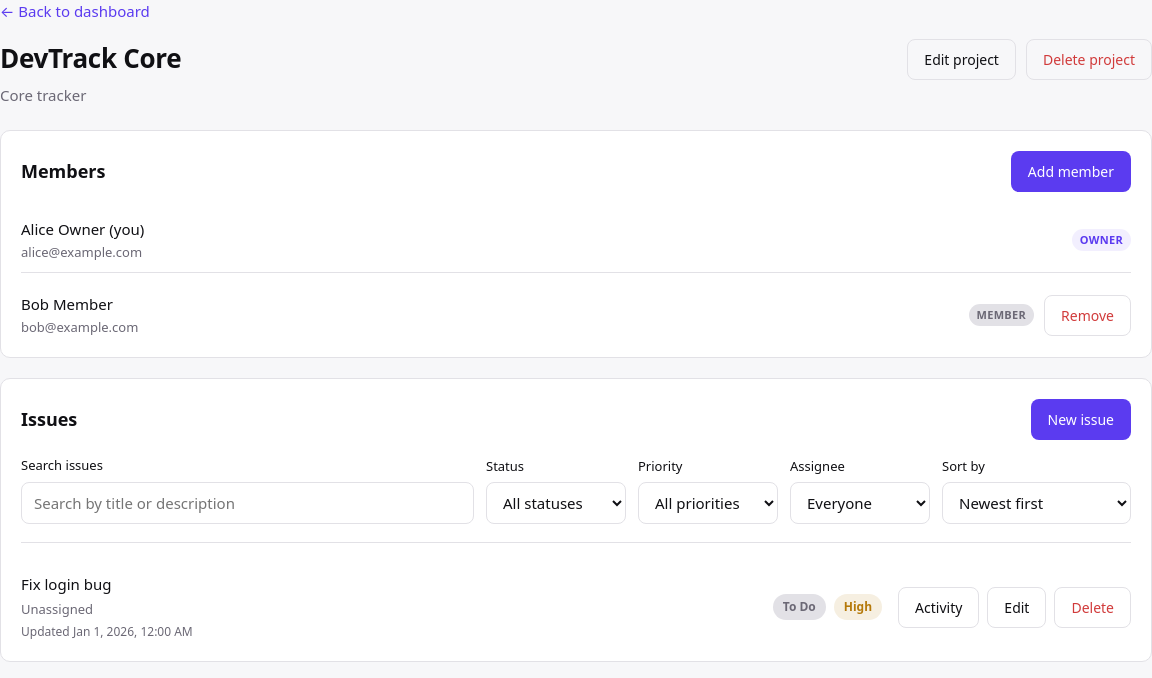
Scenario: ProjectDetailPage › creates an issue through the modal form
Expected: the heading "DevTrack Core" is shown, [0,38,181,78]
Click the button "New issue": (1081, 420) [1030,399,1131,440]
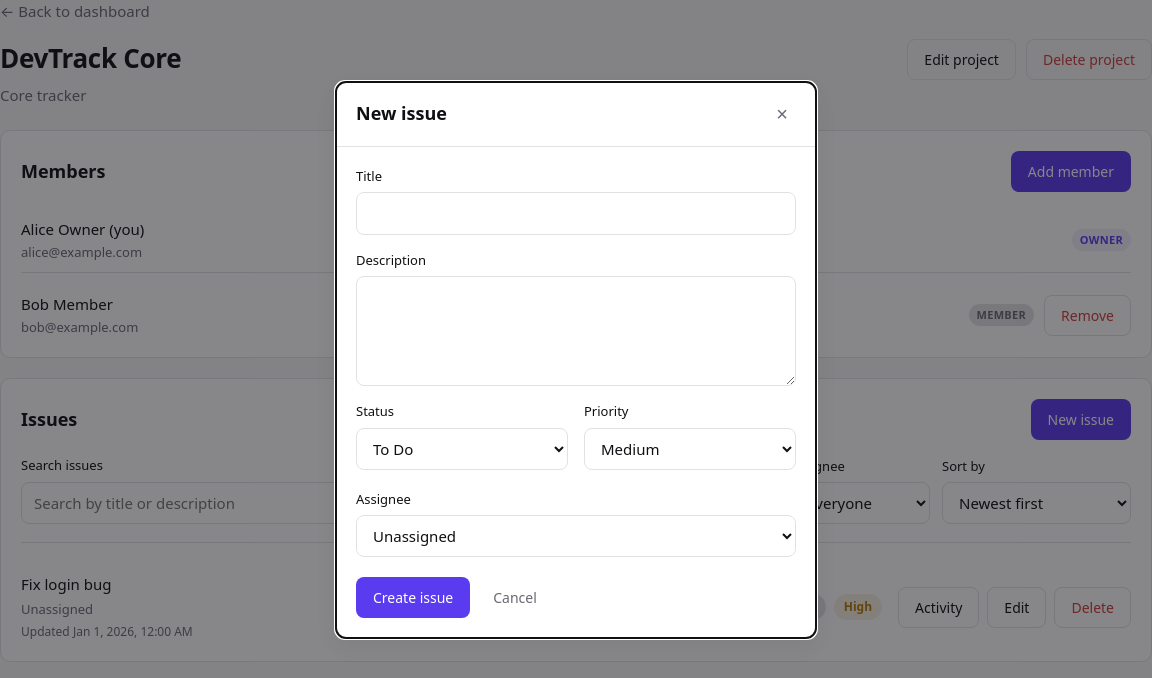
In the field labelled "Title": (576, 214) [356,192,796,235], type "Write docs"
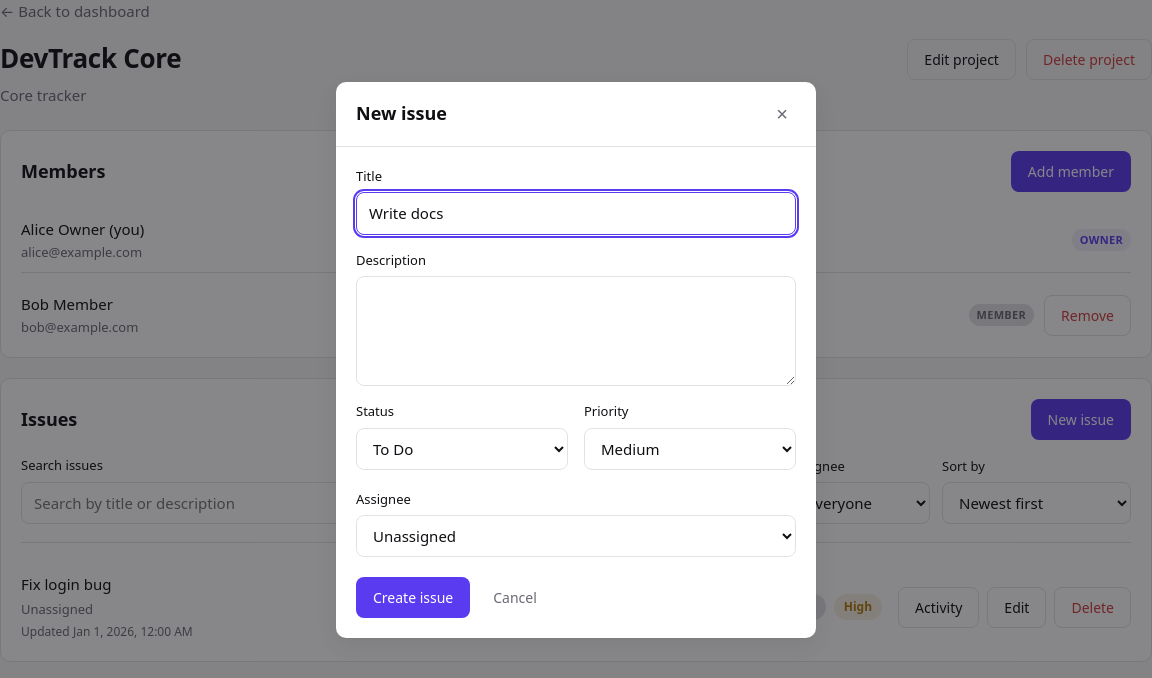
Click the button "Create issue": (413, 598) [356,577,470,618]
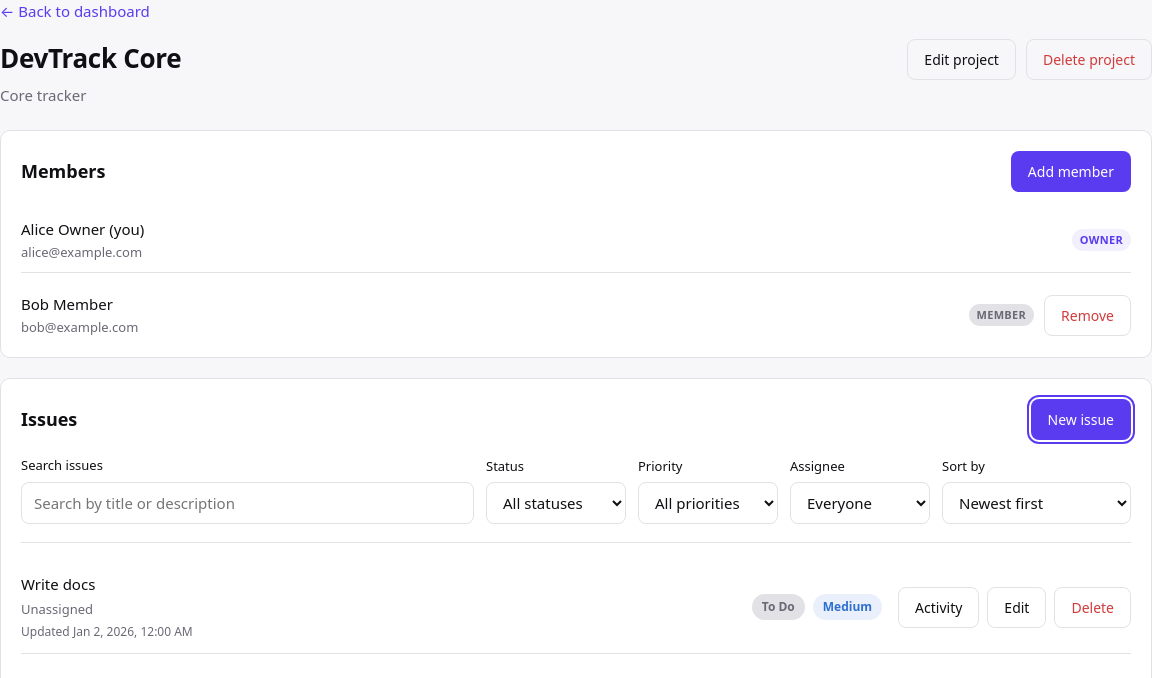
Now the text "Write docs" is shown, box [21,574,95,594]
